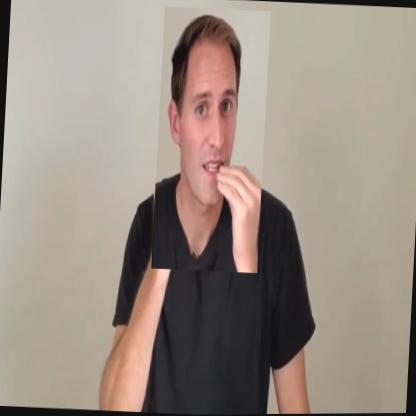Food: (151, 6, 270, 274)
